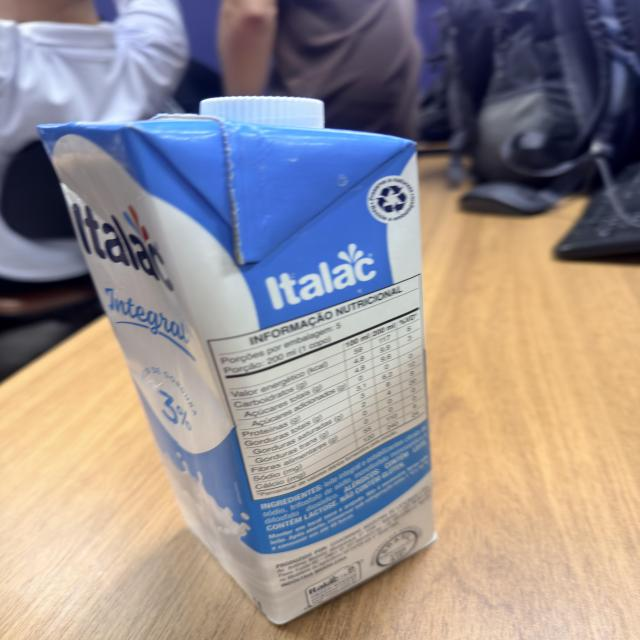Caixa de Leite: (39, 96, 438, 622)
